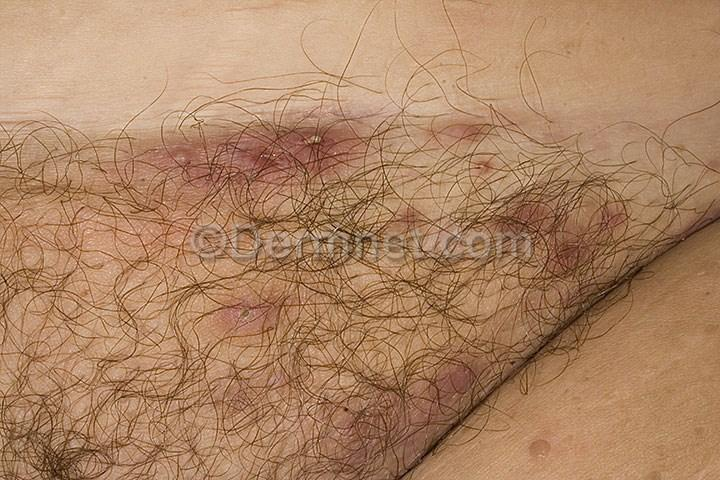Acne: (284, 114, 369, 150), (142, 137, 204, 167)
